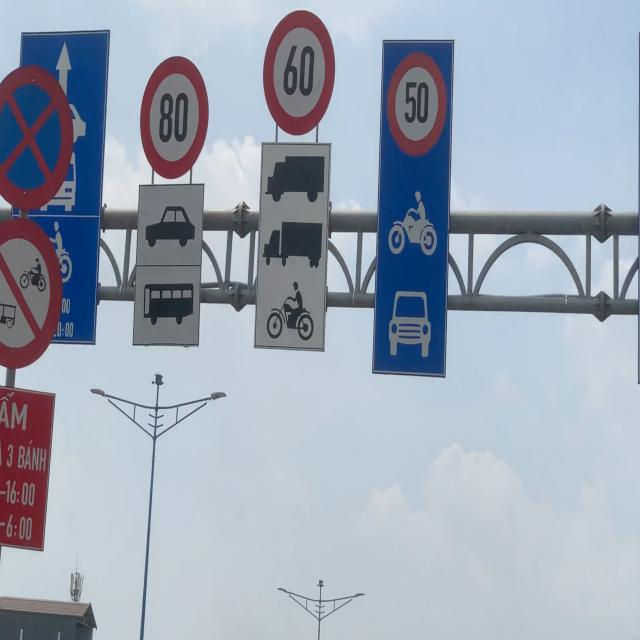Cam con lai: (0, 218, 62, 365)
Cam dung va do: (0, 62, 76, 217)
Toc do toi da: (263, 3, 342, 138), (138, 48, 208, 180), (384, 46, 449, 160)
